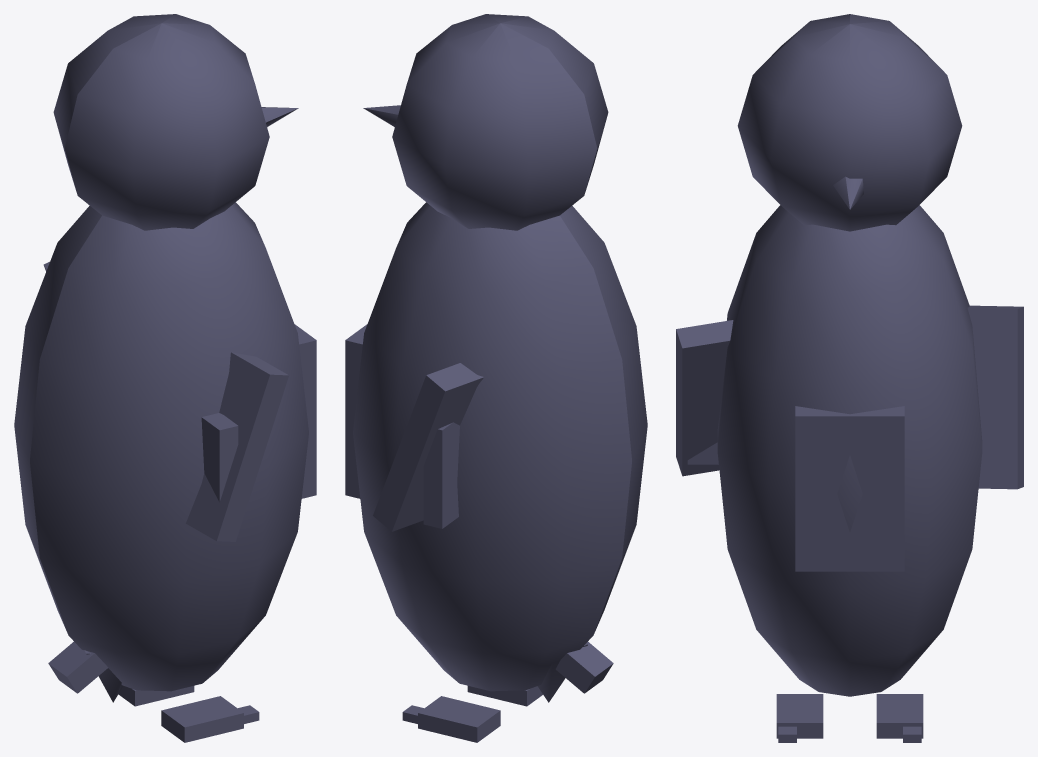
Rendered from penguin.glb.
3 renders of one model, left to right at view 1: azimuth 30°, elevation 25°; view 2: azimuth 150°, elevation 25°; view 3: azimuth 270°, elevation 25°, orthographic.
Parts seen in each view (by area): view 1: Bird; view 2: Bird; view 3: Bird.
Boxes of the visible parts, x1,y1,x2,y2 form: Bird: [14, 14, 316, 742]; Bird: [345, 14, 647, 742]; Bird: [676, 14, 1023, 742].
Bounding box in the file's own units: 0.4084 × 1 × 0.4554.
